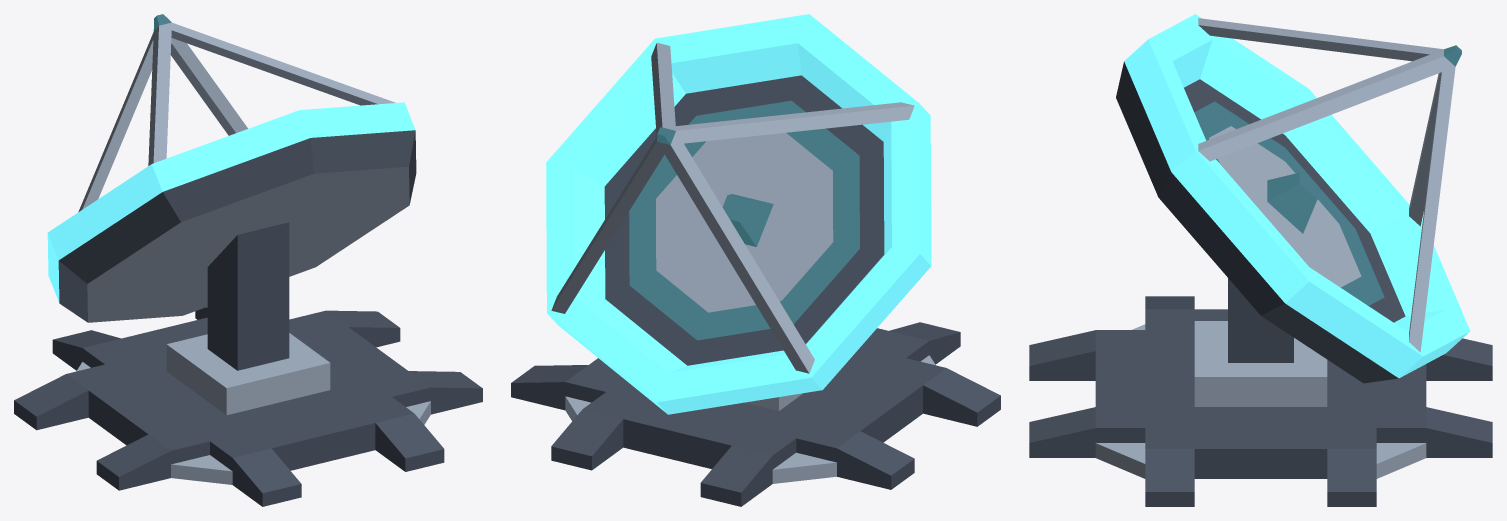
The model's file is satelliteDish_detailed.glb.
3 views of the same model, side by side, from view 1: azimuth 30°, elevation 25°; view 2: azimuth 150°, elevation 25°; view 3: azimuth 270°, elevation 25° (orthographic). The views are drawn at different scales.
Visible parts, largest first — view 1: satelliteDish_detailed; view 2: satelliteDish_detailed; view 3: satelliteDish_detailed.
Part boxes in pixels (x1,y1,x2,y2): satelliteDish_detailed: [14, 14, 482, 506]; satelliteDish_detailed: [511, 14, 1000, 506]; satelliteDish_detailed: [1029, 14, 1492, 506].
Size of the model in its own units: 0.7 by 0.6165 by 0.7.
